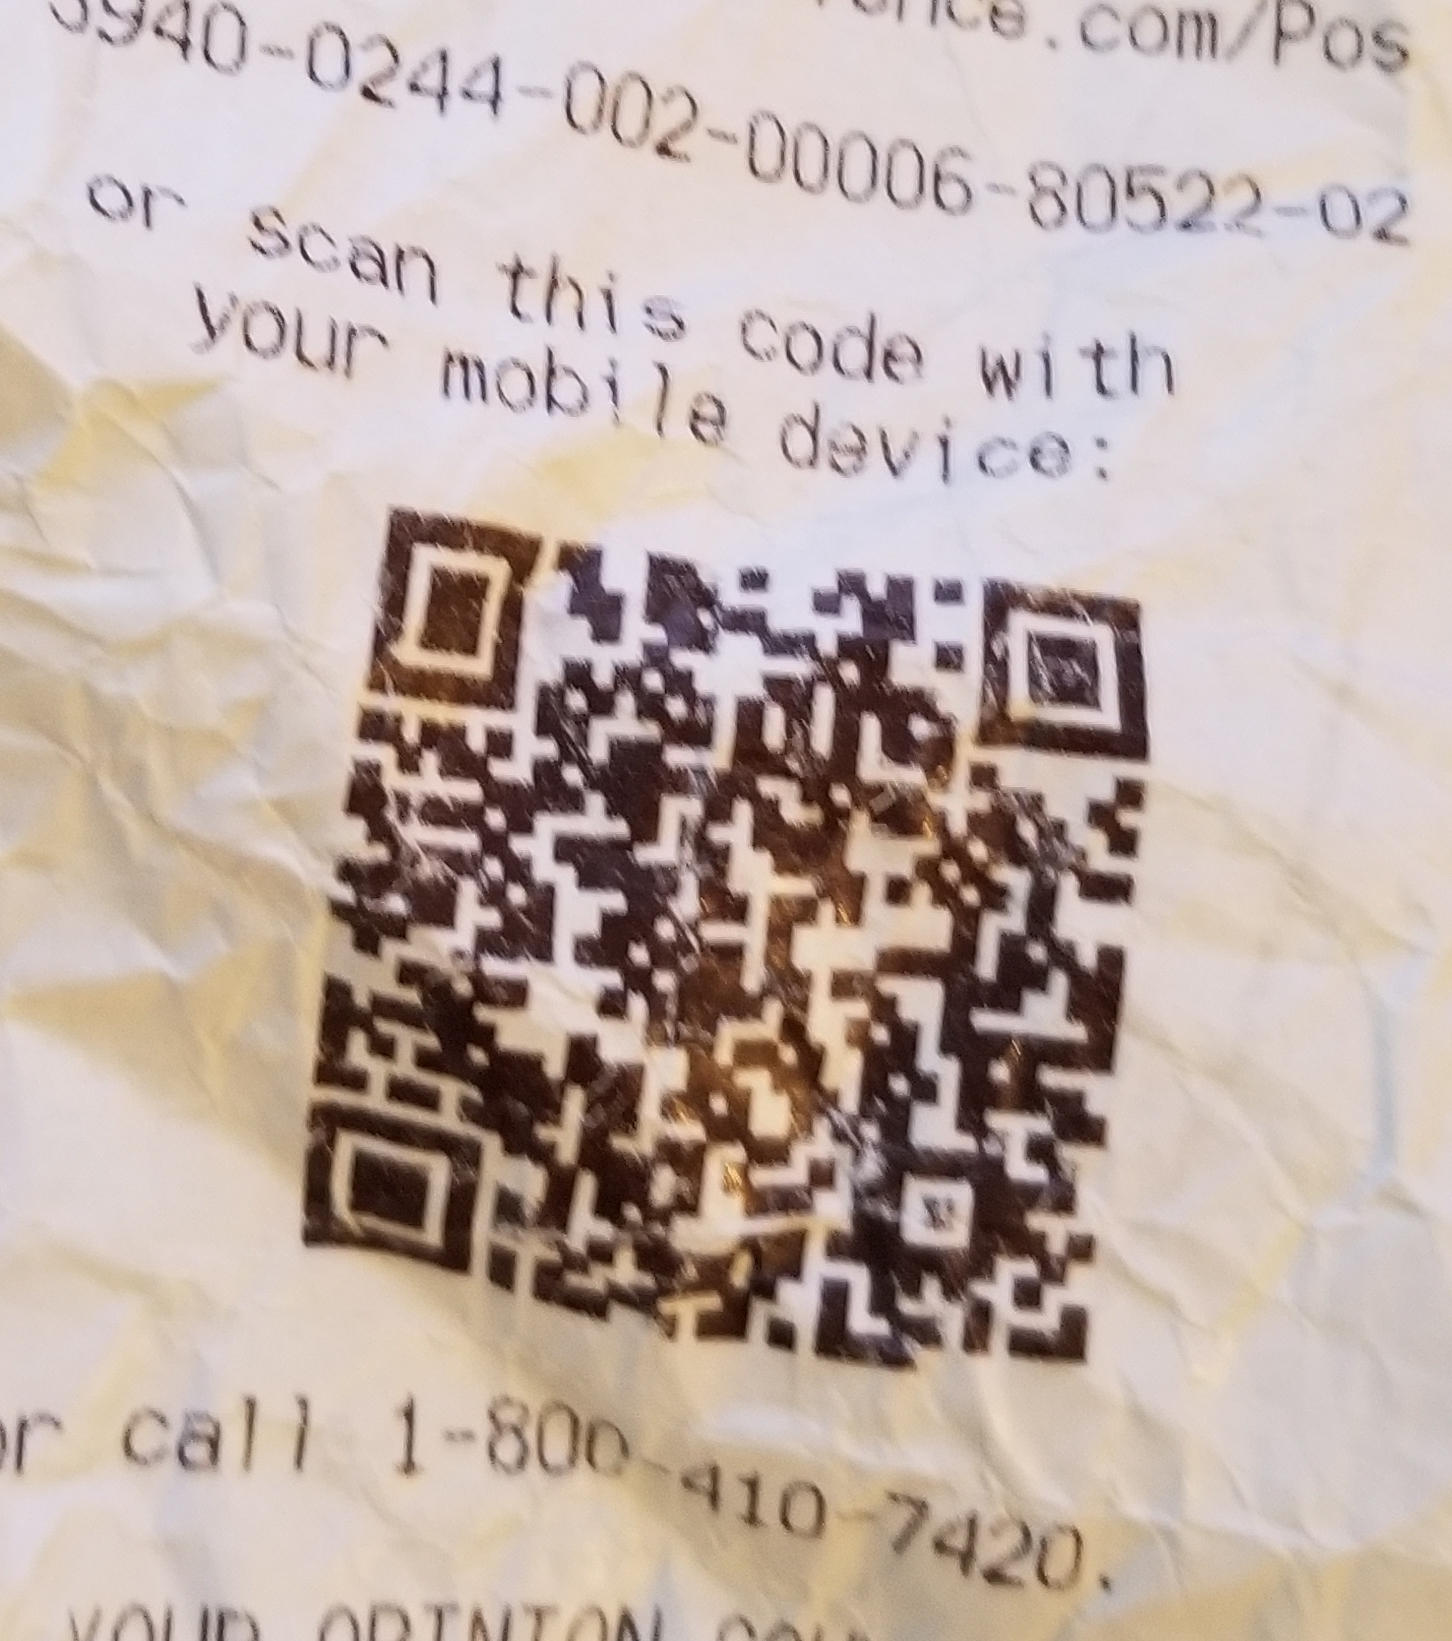QR_CODE: (270, 460, 1167, 1400)
